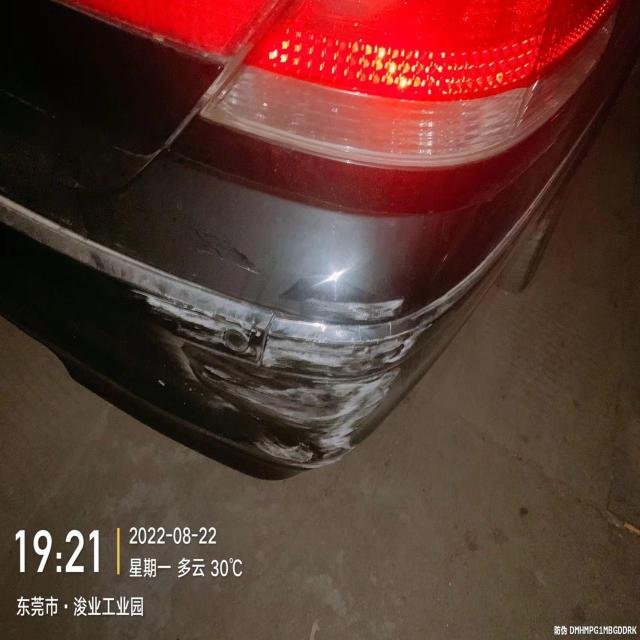Paint-fading: (147, 296, 421, 468)
